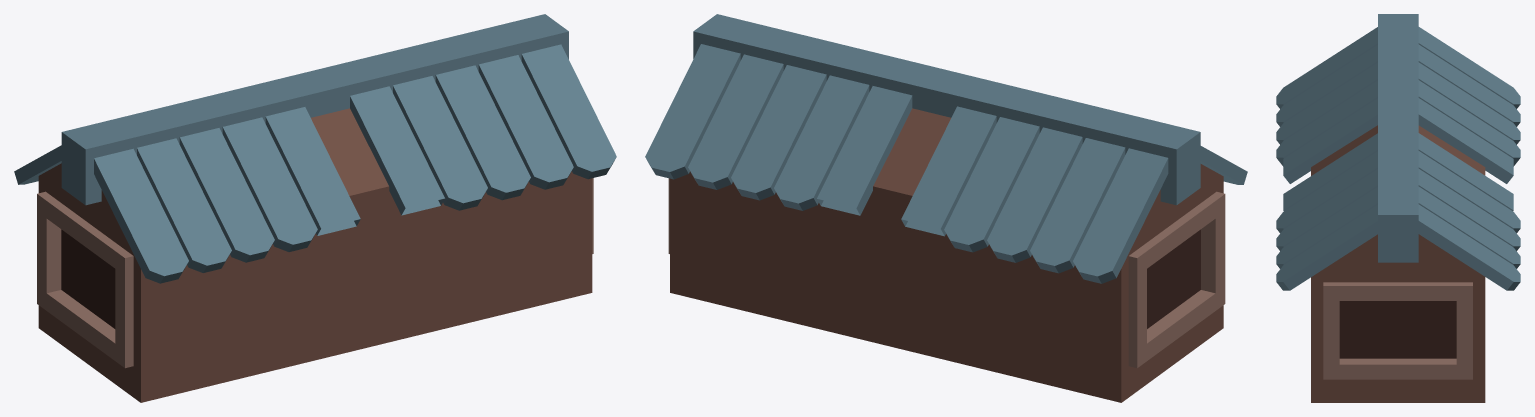
Rendered from Building_Small_Window_001.glb.
3 views of the same model, side by side, from view 1: azimuth 30°, elevation 25°; view 2: azimuth 150°, elevation 25°; view 3: azimuth 270°, elevation 25° (orthographic). The views are drawn at different scales.
Visible parts, largest first — view 1: Building_Small_Window_001; view 2: Building_Small_Window_001; view 3: Building_Small_Window_001.
Part boxes in pixels (left/top/right/bottom): Building_Small_Window_001: left=14, top=14, right=616, bottom=402; Building_Small_Window_001: left=645, top=14, right=1247, bottom=402; Building_Small_Window_001: left=1276, top=14, right=1520, bottom=402.
Size of the model in its own units: 5.89 by 2.66 by 3.03.
1 material, 1 textured.
